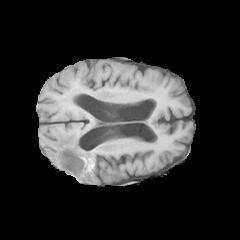glioma: (49, 96, 99, 182)
